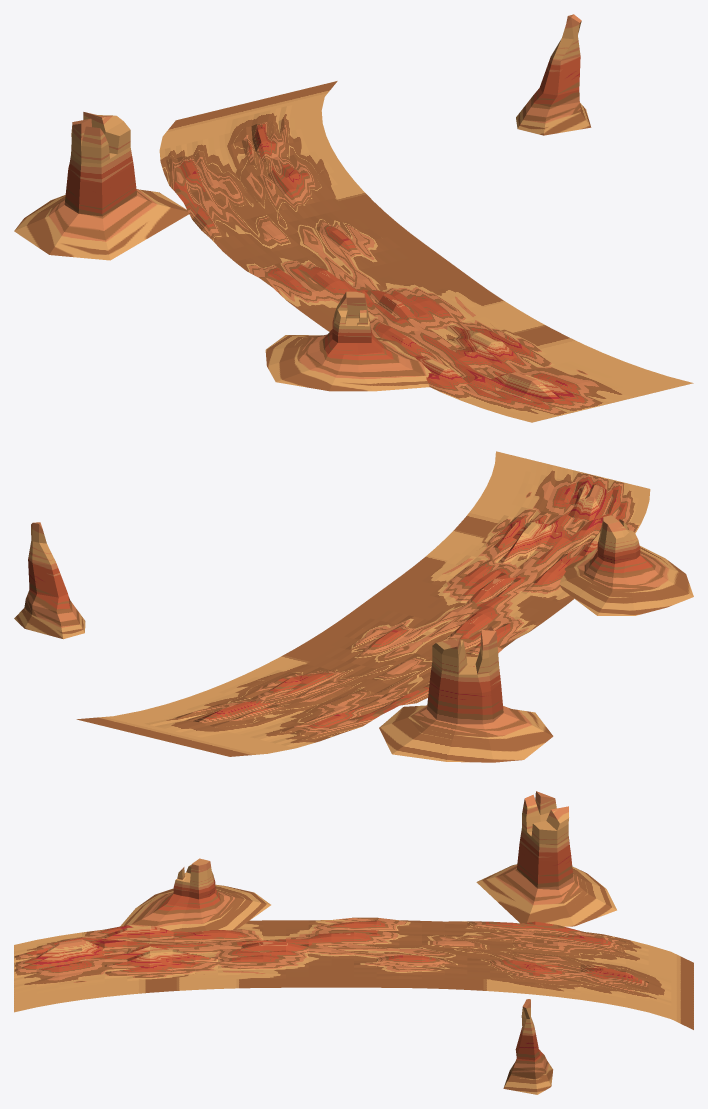
File: desertbg.fbx
3 renders of one model, top to bottom at view 1: azimuth 30°, elevation 25°; view 2: azimuth 150°, elevation 25°; view 3: azimuth 270°, elevation 25°, orthographic. The views are drawn at different scales.
Parts seen in each view (by area): view 1: hills, desertrock1, desertrock2, desertrock3; view 2: hills, desertrock1, desertrock2, desertrock3; view 3: hills, desertrock1, desertrock2, desertrock3.
Part boxes in pixels (x1,y1,x2,y2): hills: (159,81,693,422); desertrock1: (14,112,188,260); desertrock2: (265,291,431,391); desertrock3: (516,14,591,135); hills: (76,451,650,756); desertrock1: (379,626,553,762); desertrock2: (559,515,693,615); desertrock3: (14,522,85,639); hills: (14,917,693,1029); desertrock1: (476,791,616,926); desertrock2: (120,858,270,932); desertrock3: (503,999,553,1094).
Bounding box in the file's own units: 3416 × 655 × 4260.
